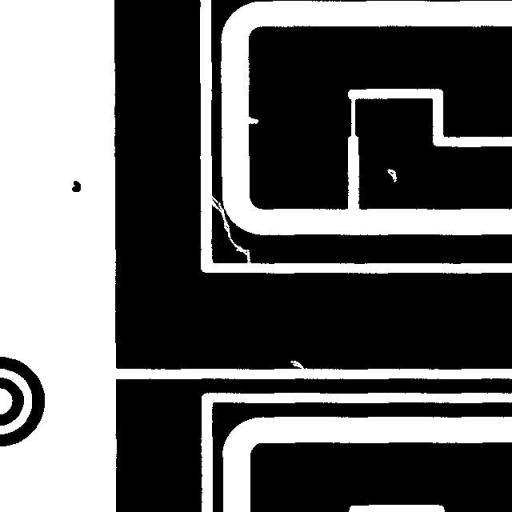copper: (64, 173, 88, 199)
mousebite: (282, 352, 316, 378), (239, 109, 266, 131)
open: (201, 186, 259, 272)
pin-hole: (379, 160, 404, 190)
